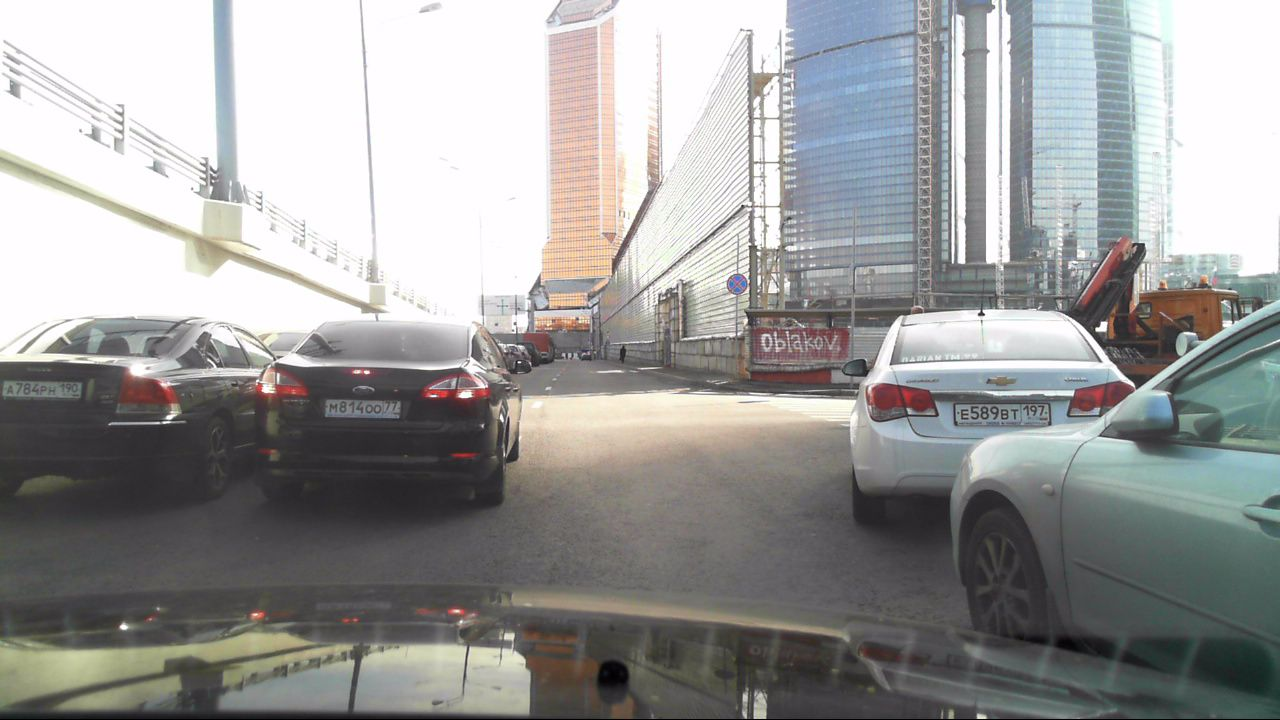No Parking: (724, 271, 749, 297)
